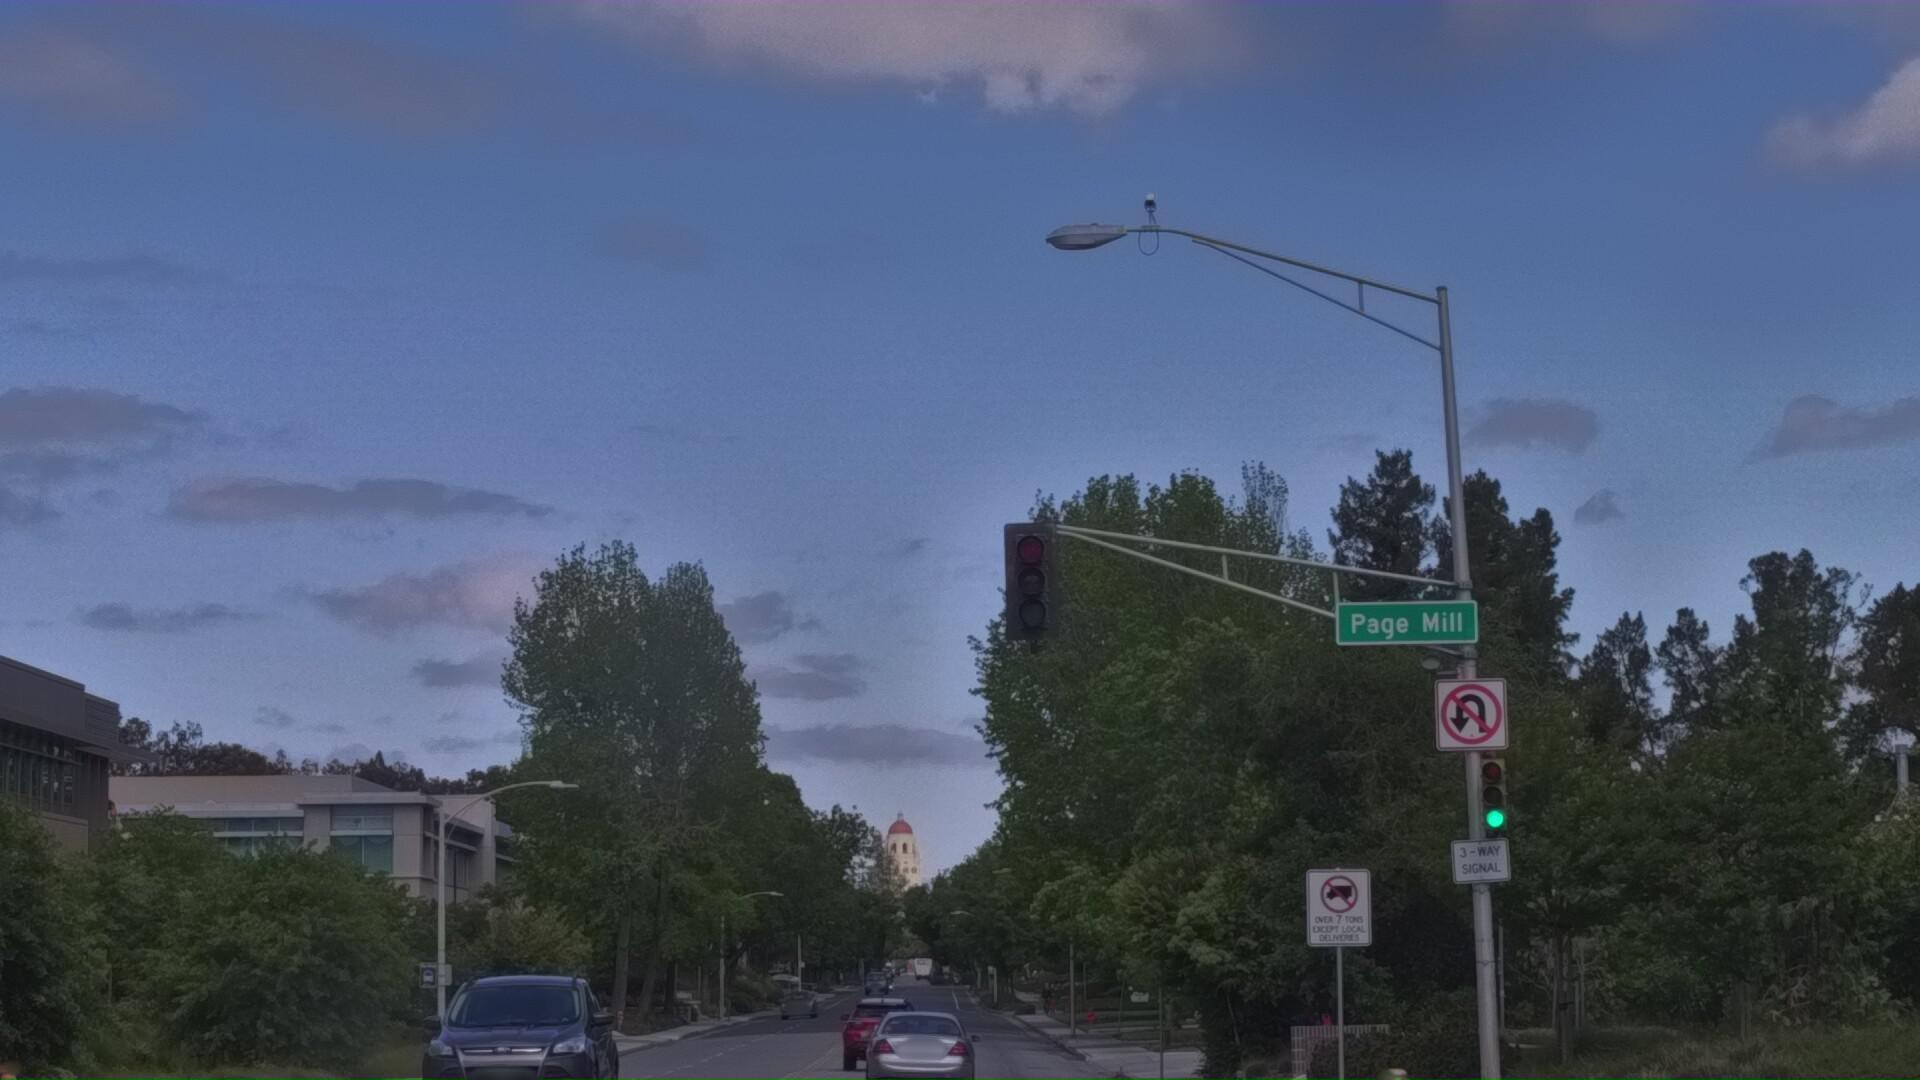car: (415, 969, 636, 1080), (856, 1018, 994, 1080), (837, 1017, 942, 1080)
